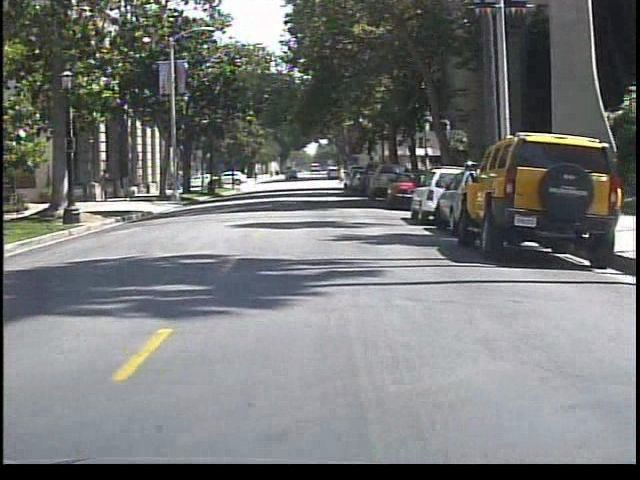person: (119, 171, 141, 205), (99, 169, 119, 206), (336, 165, 350, 190)
